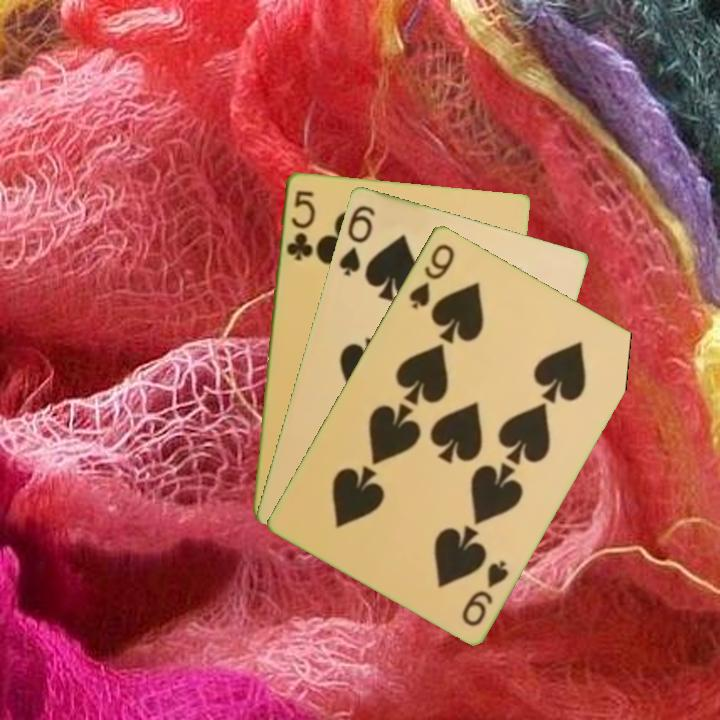5c: (282, 186, 318, 263)
6s: (334, 201, 378, 279)
9s: (458, 556, 512, 629), (405, 239, 458, 312)
